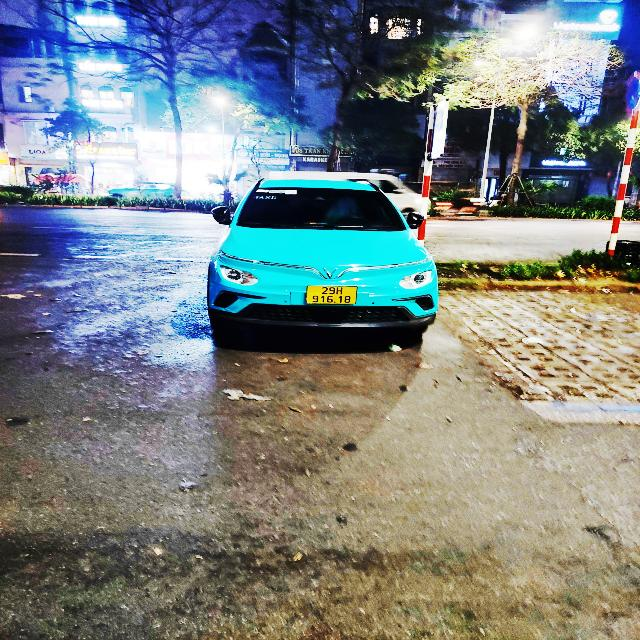license_plate: (306, 285, 359, 305)
